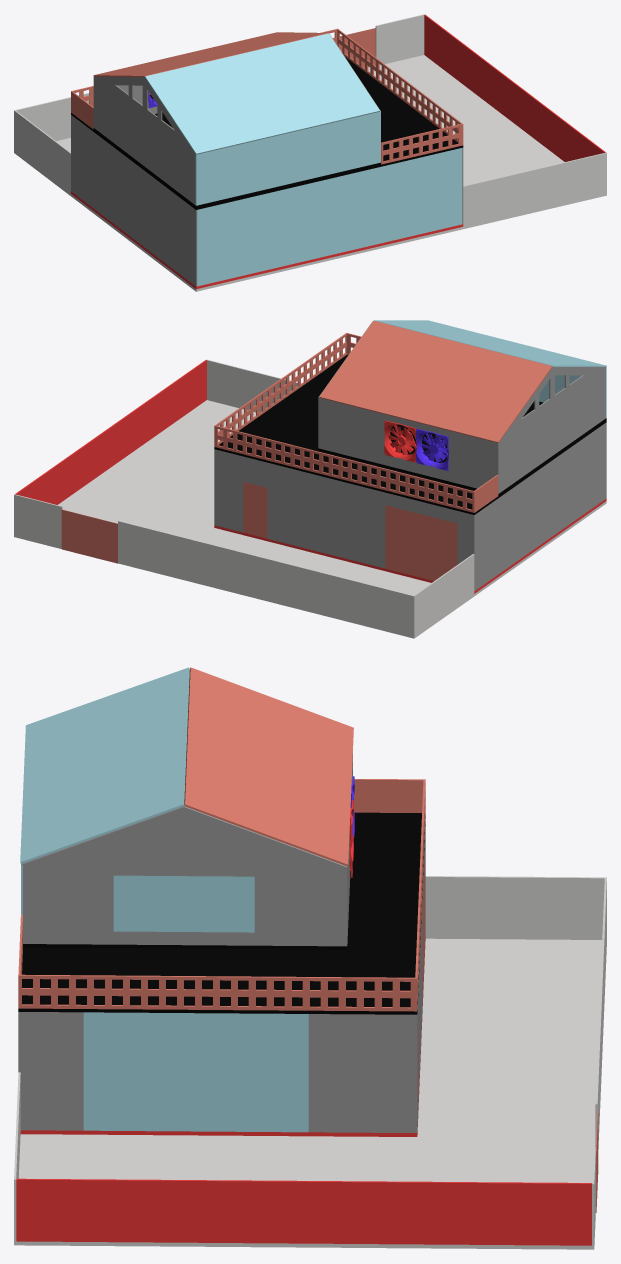
The model's file is home_model.glb.
3 renders of one model, top to bottom at view 1: azimuth 30°, elevation 25°; view 2: azimuth 150°, elevation 25°; view 3: azimuth 270°, elevation 25°, orthographic. The views are drawn at different scales.
Visible parts, largest first — view 1: yard mesh, home right, roof 2, home back, level 1 right, yard wall mesh 1, level 1 back, upper level yard, roof 1, upper level wall 3, roof tri back, upper level wall 4.001 (+5 smaller); view 2: yard mesh, roof 1, home left, home back, yard wall mesh 1, level 1 left, upper level yard, level 1 back, upper level wall 2, garage mesh.001, roof 2, upper level wall 3 (+11 smaller); view 3: yard mesh, yard wall mesh 1, glass mesh, upper level yard, roof 1, roof 2, level 1 front, home front, roof tri front, upper level wall 3, upper window mesh 2, home front 2 (+5 smaller).
Part boxes in pixels (x1,y1,x2,y2): yard mesh: [14, 14, 606, 291]; home right: [197, 148, 461, 286]; roof 2: [145, 33, 379, 154]; home back: [71, 115, 197, 286]; level 1 right: [195, 111, 380, 205]; yard wall mesh 1: [424, 14, 605, 161]; level 1 back: [94, 77, 195, 204]; upper level yard: [71, 56, 463, 209]; roof 1: [93, 32, 328, 77]; upper level wall 3: [337, 28, 463, 145]; roof tri back: [94, 76, 195, 154]; upper level wall 4.001: [381, 124, 461, 164]; yard mesh: [14, 359, 606, 638]; roof 1: [319, 320, 552, 442]; home left: [215, 449, 473, 568]; home back: [473, 422, 606, 590]; yard wall mesh 1: [15, 360, 206, 504]; level 1 left: [318, 397, 499, 493]; upper level yard: [214, 355, 606, 514]; level 1 back: [499, 368, 605, 492]; upper level wall 2: [215, 425, 474, 512]; garage mesh.001: [385, 505, 457, 580]; roof 2: [374, 320, 606, 366]; upper level wall 3: [214, 333, 347, 446]; yard mesh: [14, 876, 606, 1249]; yard wall mesh 1: [16, 1178, 592, 1245]; glass mesh: [83, 1012, 308, 1132]; upper level yard: [18, 812, 425, 1014]; roof 1: [184, 667, 353, 866]; roof 2: [20, 667, 189, 863]; level 1 front: [23, 865, 345, 946]; home front: [308, 1014, 417, 1132]; roof tri front: [21, 806, 347, 867]; upper level wall 3: [18, 974, 417, 1011]; upper window mesh 2: [113, 875, 254, 932]; home front 2: [18, 1012, 83, 1130].
Bounding box in the file's own units: 10.14 × 4.15 × 8.17.
